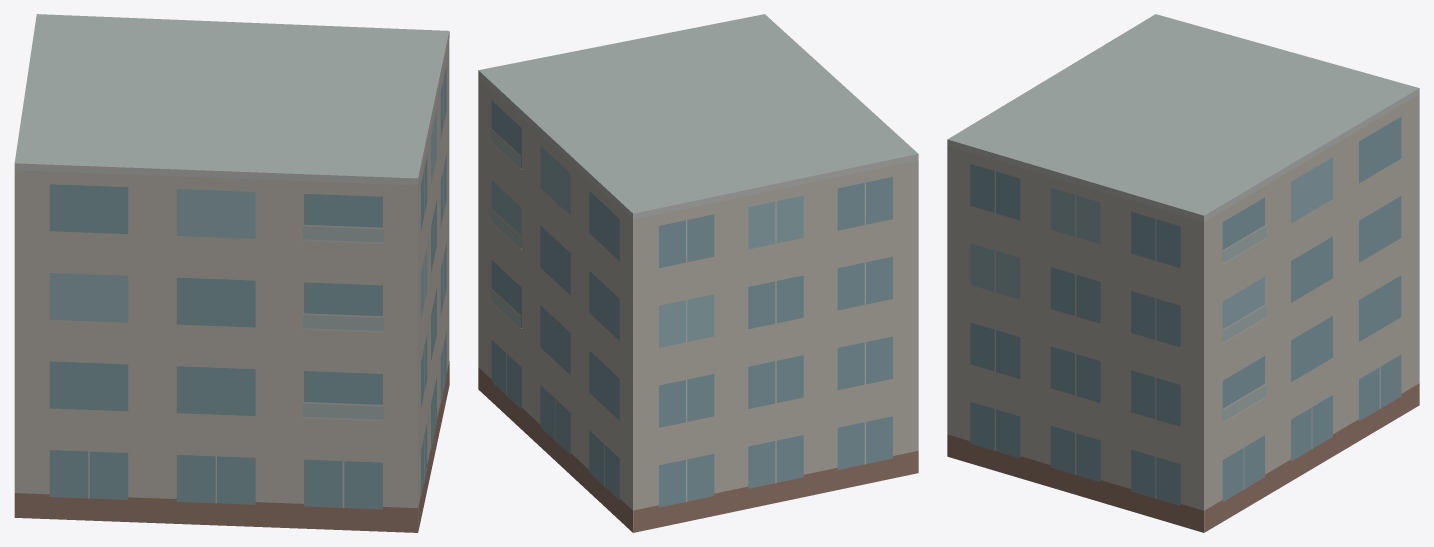
The model's file is survey-upis-32952351.glb.
3 renders of one model, left to right at view 1: azimuth 30°, elevation 25°; view 2: azimuth 150°, elevation 25°; view 3: azimuth 270°, elevation 25°, orthographic. The views are drawn at different scales.
Visible parts, largest first — view 1: survey-upis-32952351.tmp; view 2: survey-upis-32952351.tmp; view 3: survey-upis-32952351.tmp.
Boxes of the visible parts, x1,y1,x2,y2 form: survey-upis-32952351.tmp: (14,14,449,532); survey-upis-32952351.tmp: (478,14,918,532); survey-upis-32952351.tmp: (947,14,1419,532).
Bounding box in the file's own units: 17.26 × 12.65 × 17.07.
